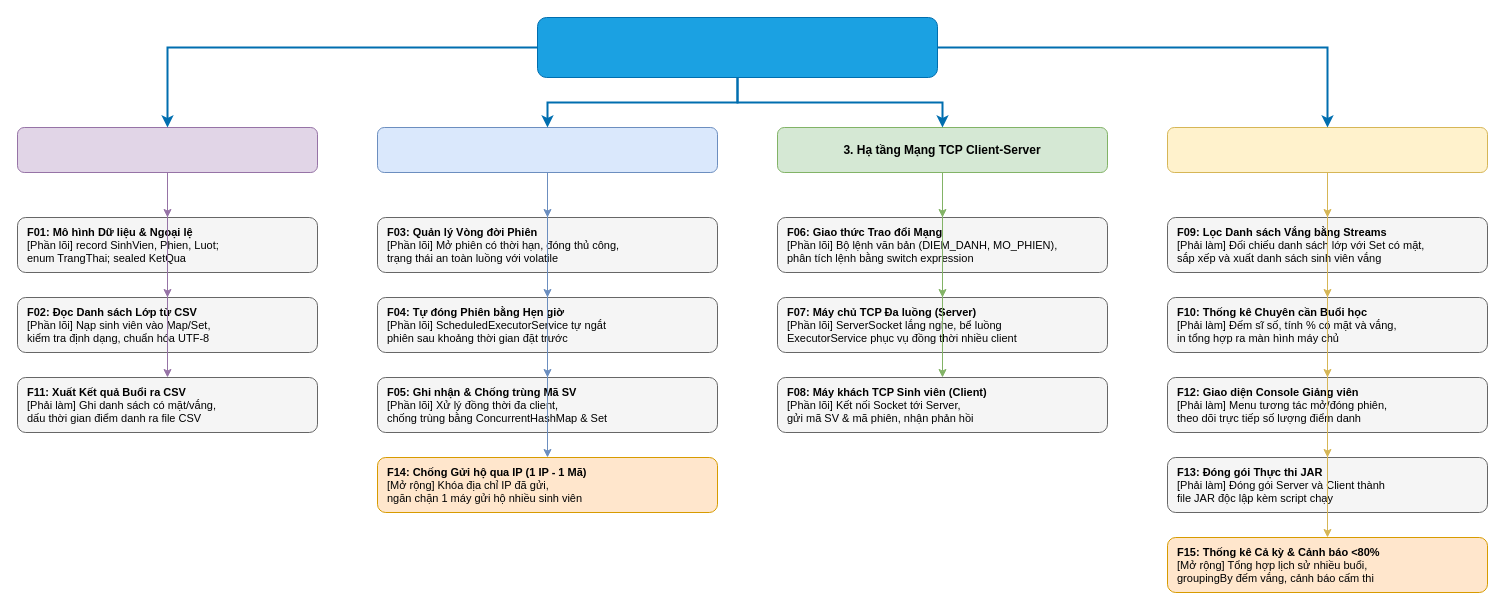
This 1505x610 diagram has some shape labels left out. Here are the shapes that lost their labels. From the top down, the box of each, then its label:
(536, 16, 938, 78): HỆ THỐNG ĐIỂM DANH LỚP HỌC QUA MẠNG NỘI BỘ (Đề tài 43 - AJP201)
(16, 126, 318, 172): 1. Mô hình & Lưu trữ Dữ liệu
(376, 126, 718, 172): 2. Nghiệp vụ Điểm danh & Đồng thời
(1166, 126, 1488, 172): 4. Thống kê, Báo cáo & Điều khiển
